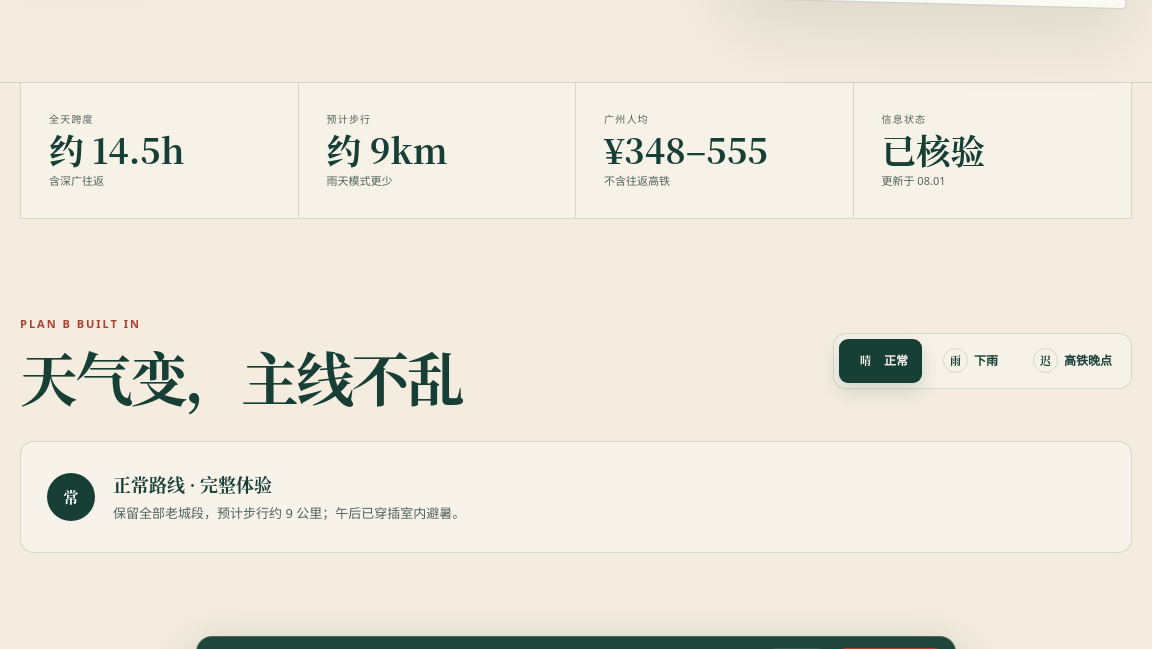
Test: TripPlanner › switches to the rain plan, updates the route, and saves the choice locally
(page scrolled)
Expected: the text "¥348–555" is shown, [604,124,768,174]
Click the tab "雨 下雨": (970, 361) [929,339,1012,383]
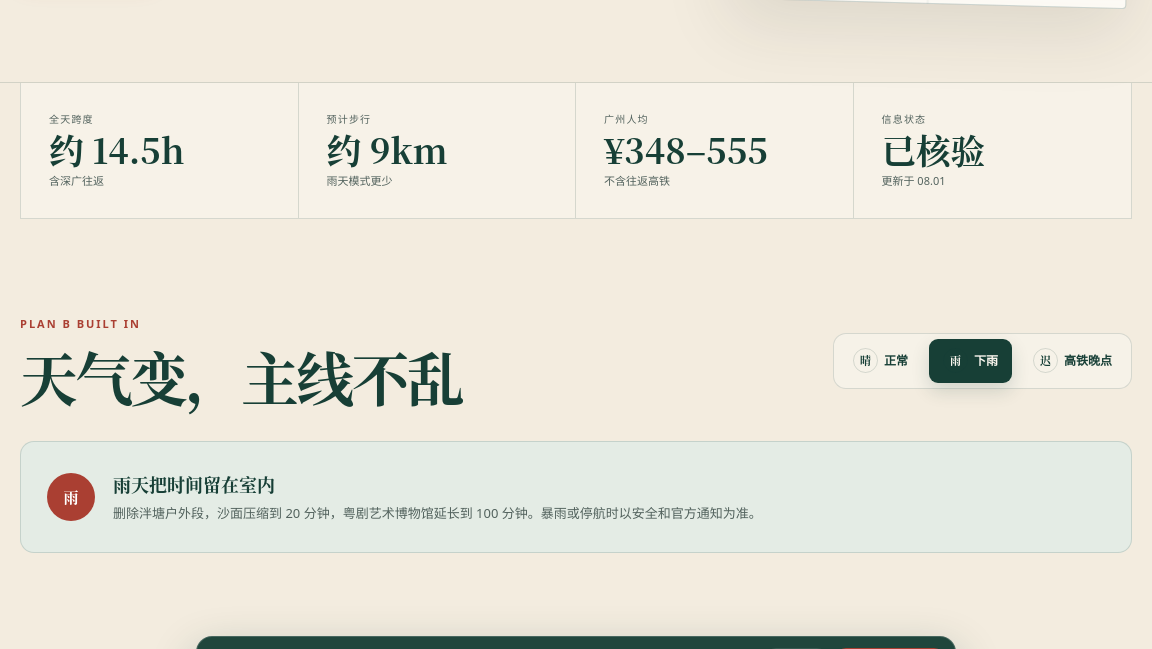
Now the text "雨天把时间留在室内" is shown, box [113,471,275,497]
